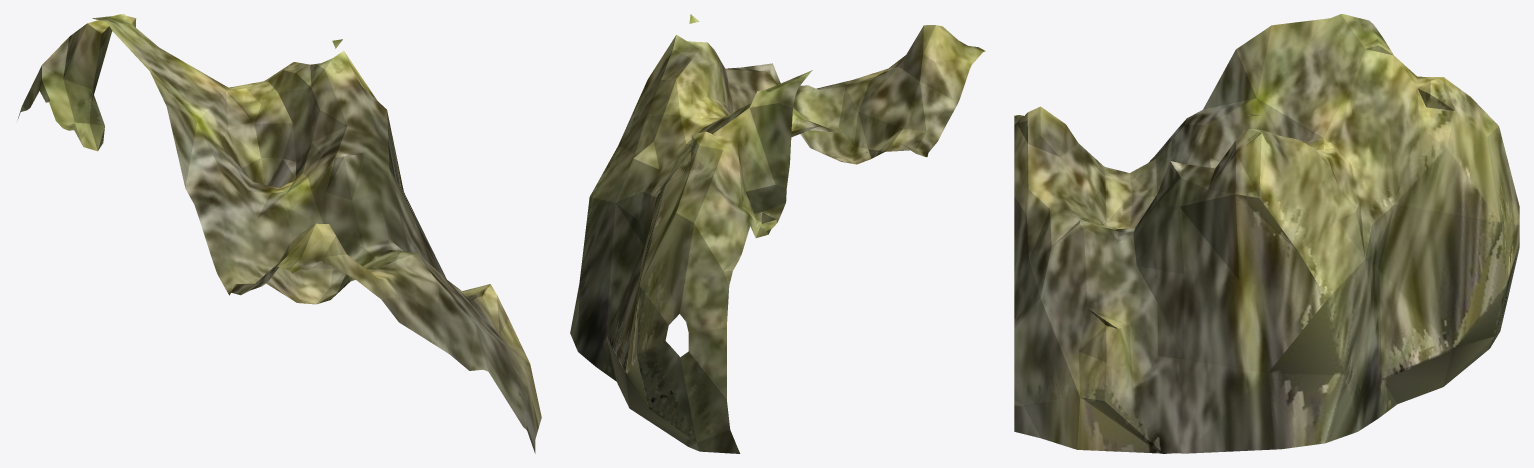
3 renders of one model, left to right at view 1: azimuth 30°, elevation 25°; view 2: azimuth 150°, elevation 25°; view 3: azimuth 270°, elevation 25°, orthographic. The views are drawn at different scales.
Bounding box in the file's own units: 1.75 × 2.02 × 2.95.
Materials: 3 (3 with a texture image).
